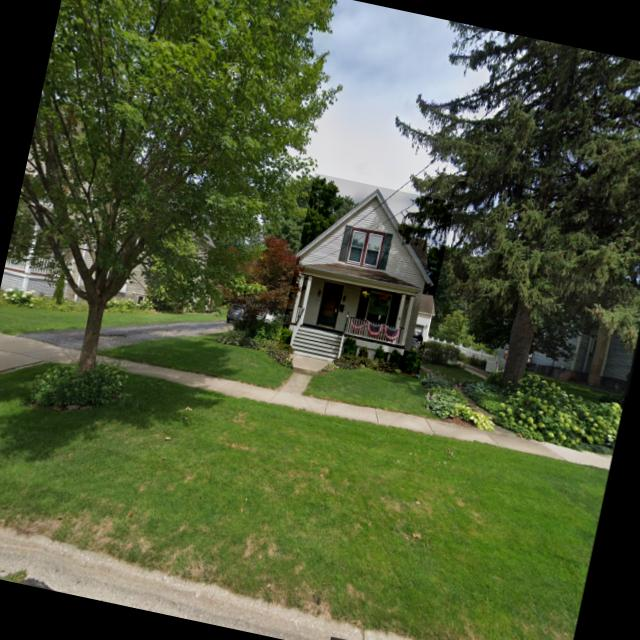House: (0, 150, 226, 333), (276, 172, 454, 378), (526, 268, 640, 396)
